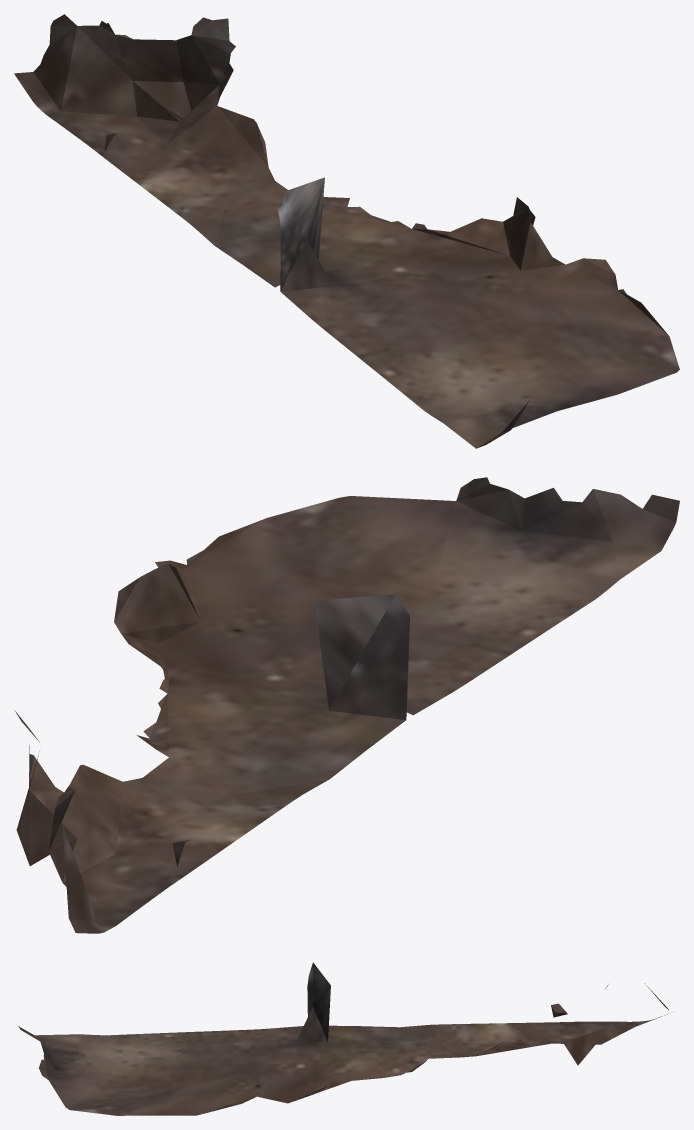
The picture shows the model from 3 angles, top to bottom: view 1: azimuth 30°, elevation 25°; view 2: azimuth 150°, elevation 25°; view 3: azimuth 270°, elevation 25°; orthographic projection. The views are drawn at different scales.
Bounding box in the file's own units: 12.8 × 5.58 × 39.95.
1 material, 1 textured.
